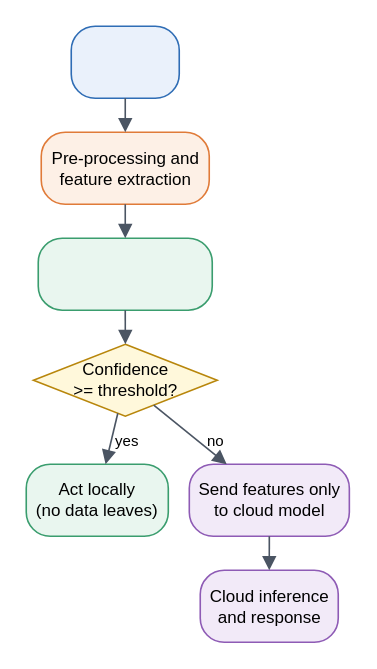
The diagram is 377 pixels wide and 669 high, and some of its shapes have lost their labels. Each missing label, with the centre of its shape:
Local inference (compressed model): the point at 124,273
Raw signal: the point at 124,61
